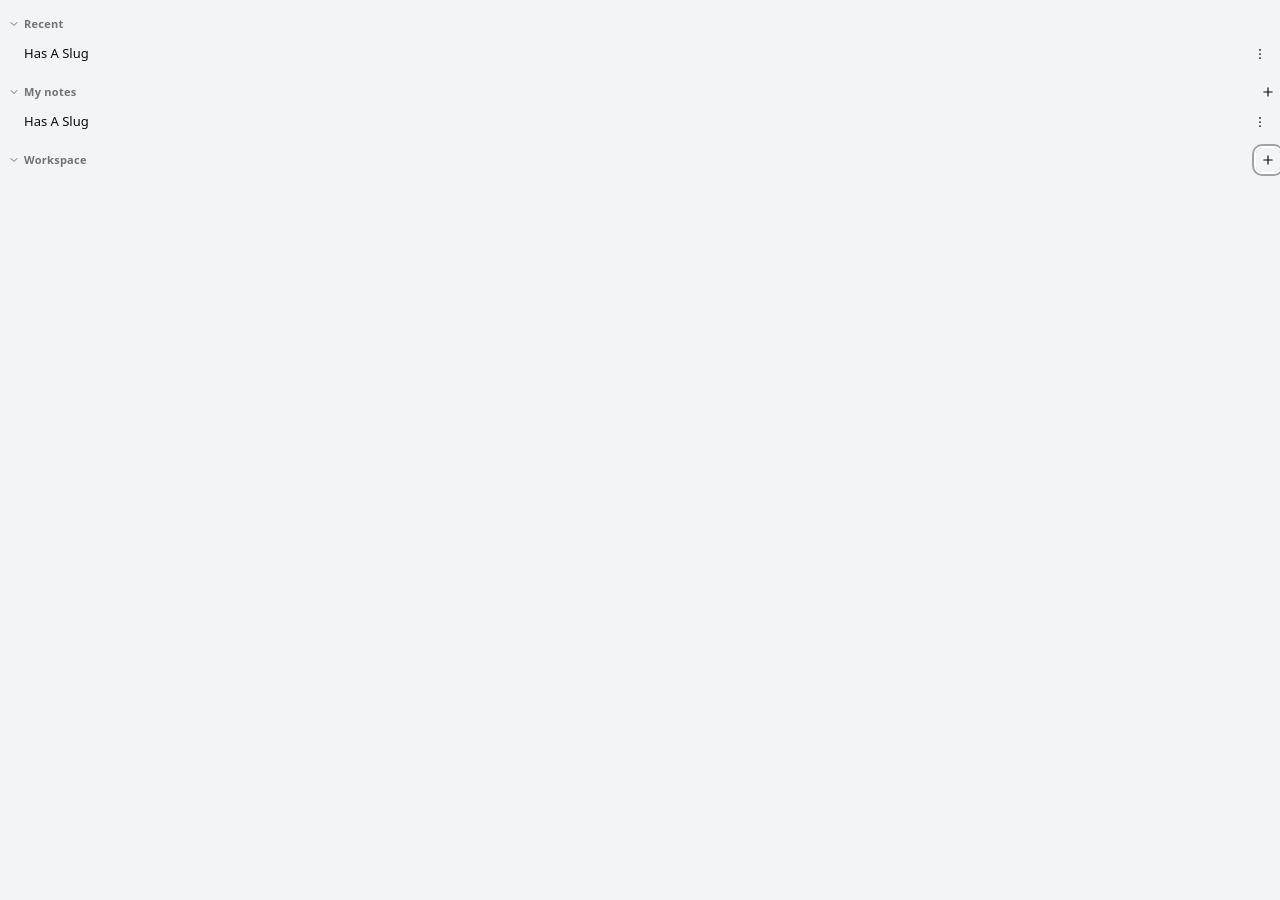
NoteList › 側欄分段與折疊（#103） › 工作坊段標「＋」→ 新增群組對話框；建立成功後新群組段出現且展開、焦點回「＋」
Click the button named "New group": (1268, 160) x1=1256 y1=148 x2=1279 y2=172
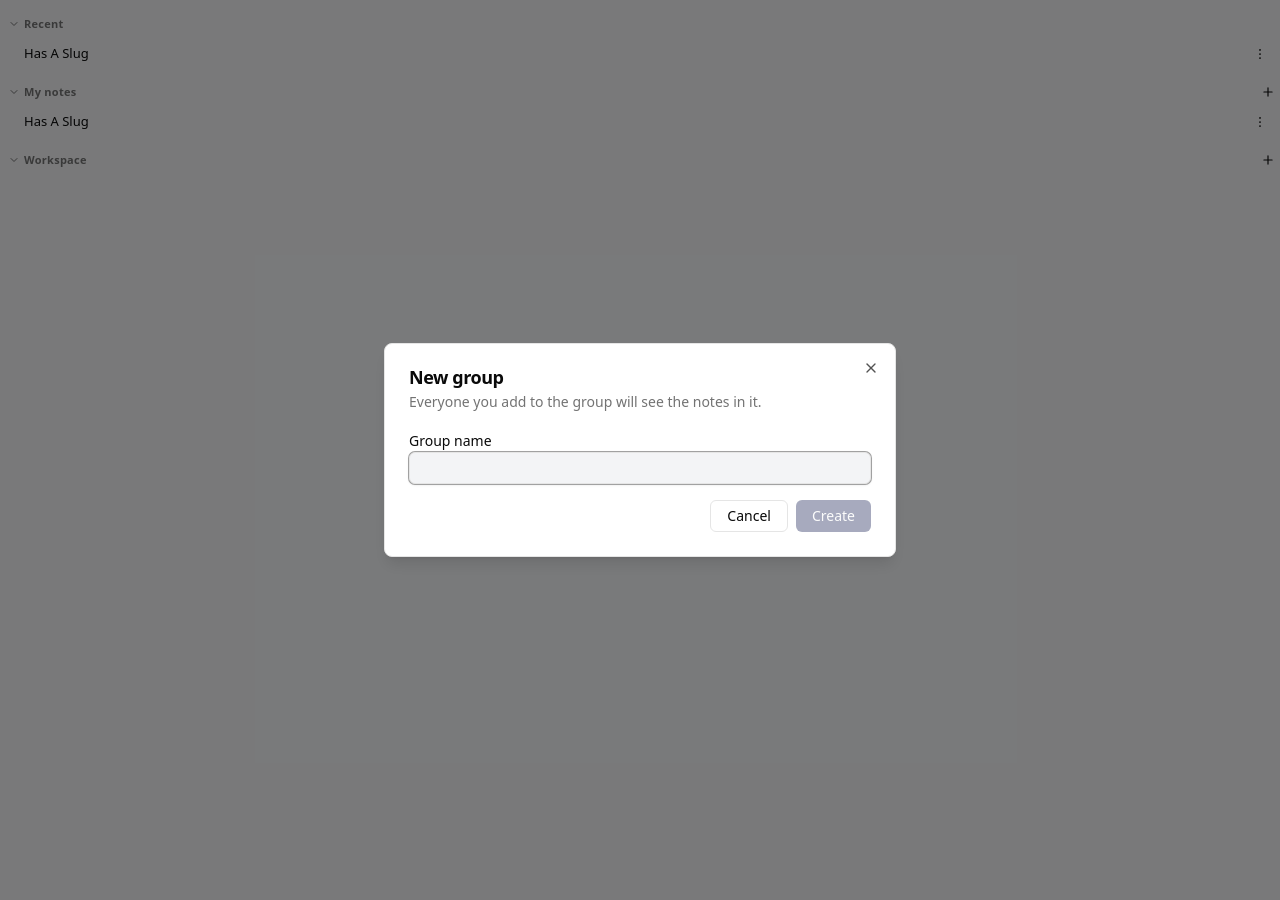
In the field labelled "Group name": (640, 468) x1=409 y1=452 x2=871 y2=484, type "Workshop A"
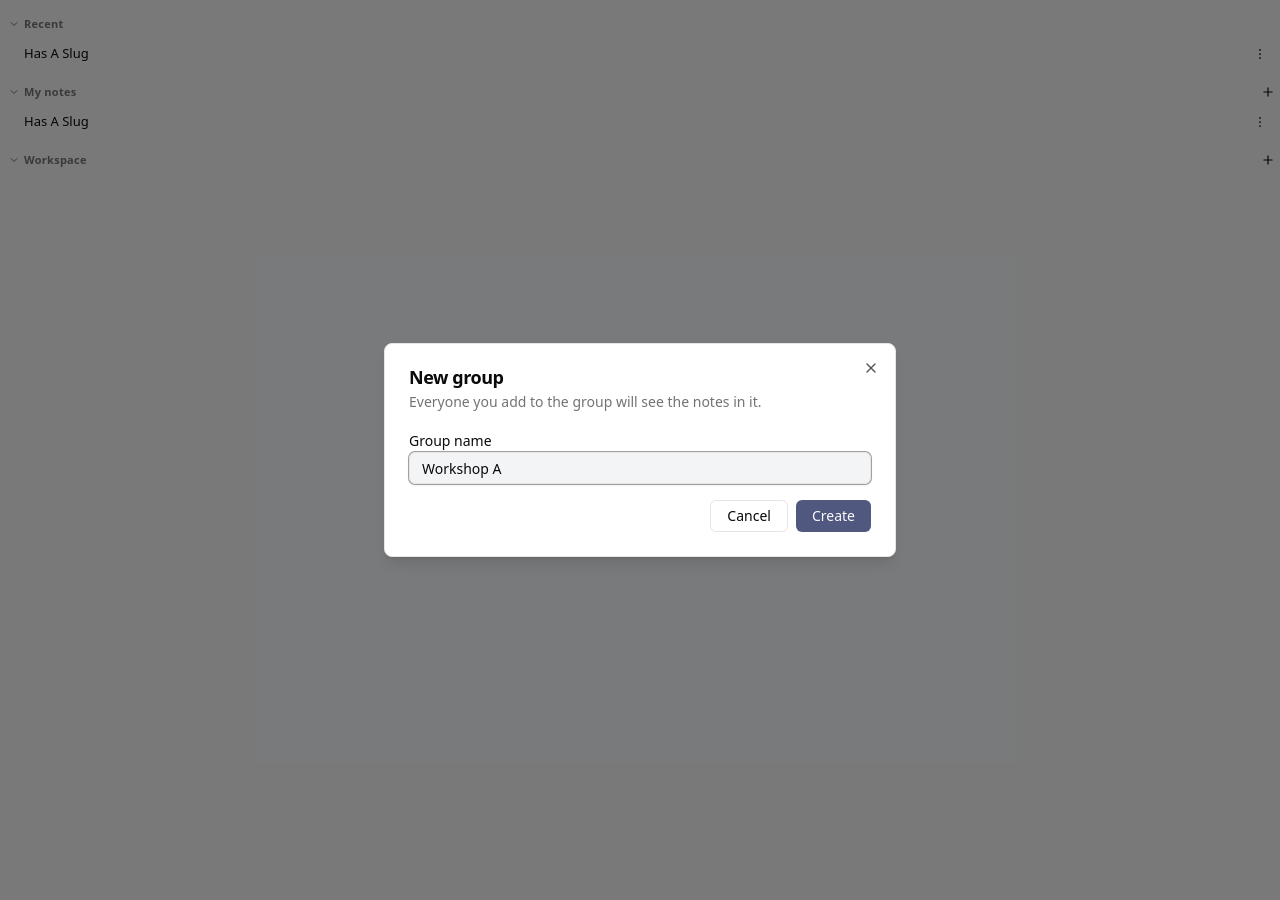
Click the button "Create": (833, 516) x1=796 y1=500 x2=871 y2=532
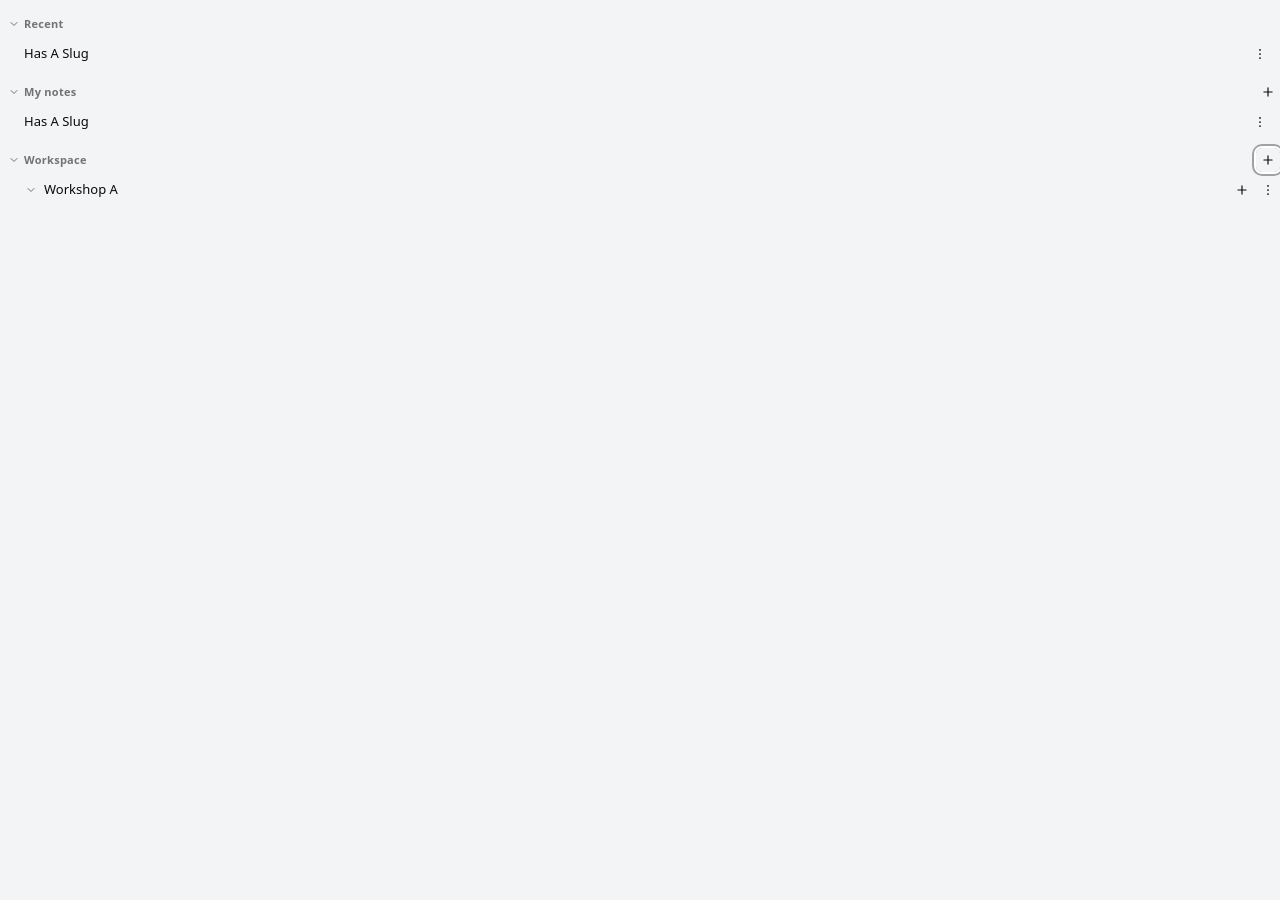
Result: the heading "New group" is gone
